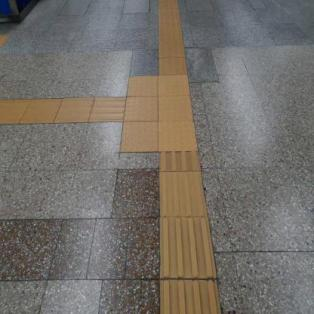Podoctatil: (103, 53, 238, 204), (159, 152, 220, 313), (0, 97, 127, 126), (158, 0, 187, 75)
